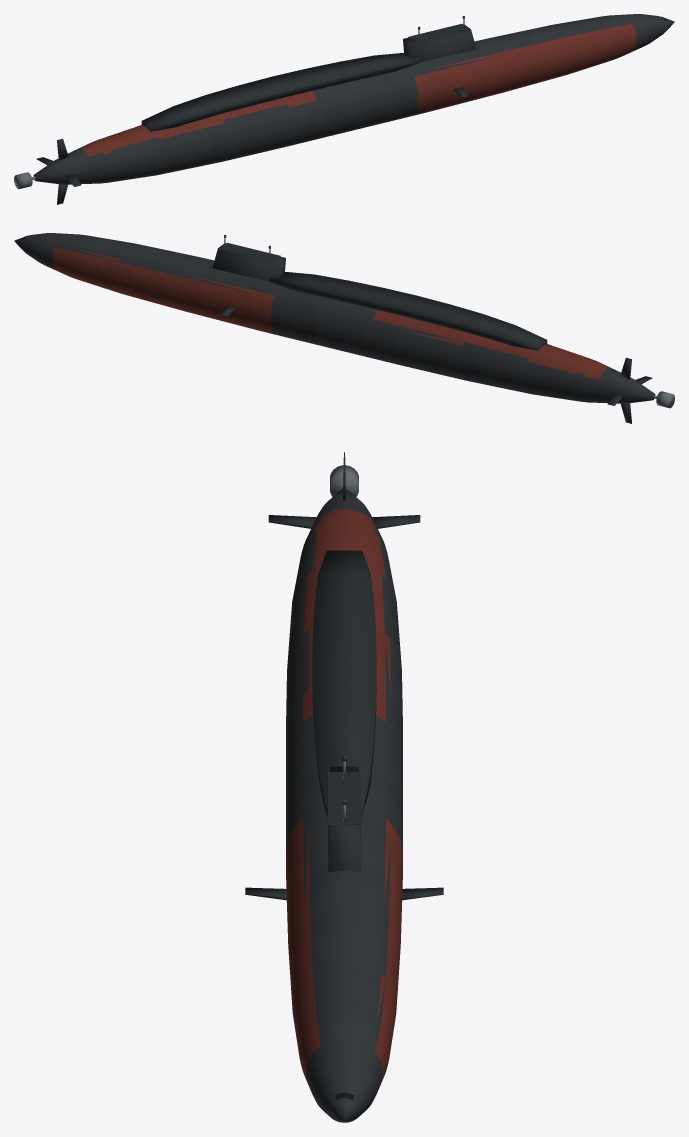
File: RU_SSBN_Borei_LOD2.fbx
3 views of the same model, one above another, from view 1: azimuth 30°, elevation 25°; view 2: azimuth 150°, elevation 25°; view 3: azimuth 270°, elevation 25° (orthographic). The views are drawn at different scales.
Visible parts, largest first — view 1: RU_SSBN_Borei_LOD2; view 2: RU_SSBN_Borei_LOD2; view 3: RU_SSBN_Borei_LOD2.
Part boxes in pixels (x1=…): RU_SSBN_Borei_LOD2: x1=14, y1=14, x2=674, y2=204; RU_SSBN_Borei_LOD2: x1=14, y1=233, x2=674, y2=423; RU_SSBN_Borei_LOD2: x1=245, y1=452, x2=443, y2=1122.
Bounding box in the file's own units: 175 × 22.8 × 22.67.
6 materials, 1 textured.
